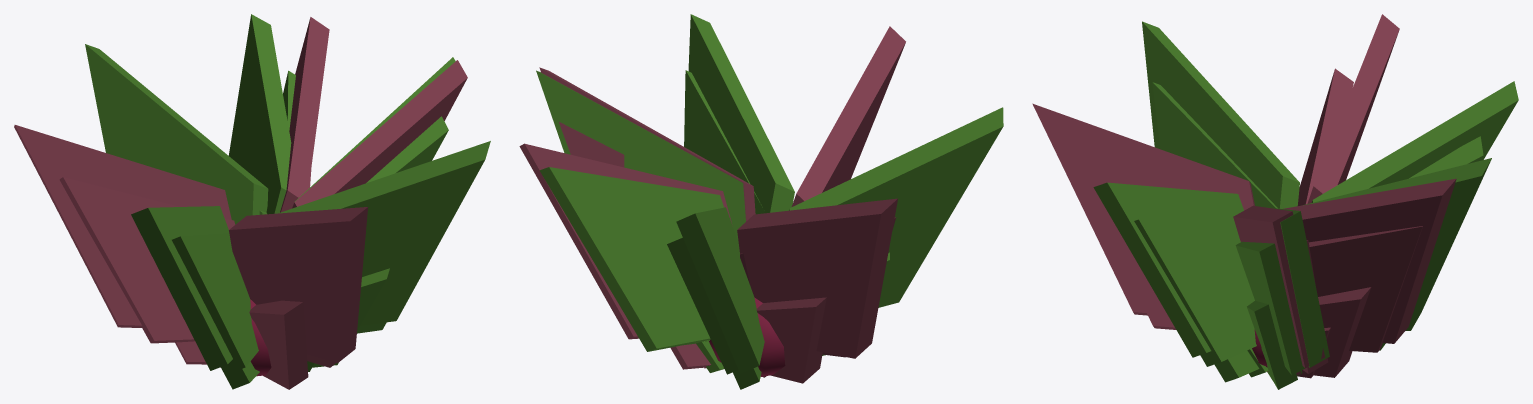
The model's file is Crop_Veg_Beet.fbx.
The picture shows the model from 3 angles, left to right: view 1: azimuth 30°, elevation 25°; view 2: azimuth 150°, elevation 25°; view 3: azimuth 270°, elevation 25°; orthographic projection.
Visible parts, largest first — view 1: Crop_Veg_Beet__S4, Crop_Veg_Beet__S3, Crop_Veg_Beet__S2; view 2: Crop_Veg_Beet__S4, Crop_Veg_Beet__S3, Crop_Veg_Beet__S2; view 3: Crop_Veg_Beet__S4, Crop_Veg_Beet__S3, Crop_Veg_Beet__S2.
Boxes of the visible parts, bbox=[...] form: Crop_Veg_Beet__S4: bbox=[14, 14, 490, 376]; Crop_Veg_Beet__S3: bbox=[59, 70, 448, 374]; Crop_Veg_Beet__S2: bbox=[175, 268, 389, 389]; Crop_Veg_Beet__S4: bbox=[519, 14, 1003, 376]; Crop_Veg_Beet__S3: bbox=[559, 70, 896, 374]; Crop_Veg_Beet__S2: bbox=[670, 252, 889, 389]; Crop_Veg_Beet__S4: bbox=[1032, 14, 1518, 368]; Crop_Veg_Beet__S3: bbox=[1067, 68, 1483, 375]; Crop_Veg_Beet__S2: bbox=[1214, 287, 1371, 389].
Size of the model in its own units: 0.1601 by 0.0971 by 0.1667.
